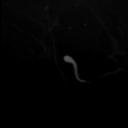fish: (62, 56, 86, 82)
